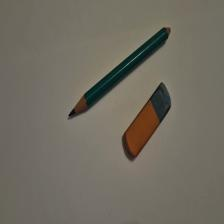eraser: (124, 83, 172, 159)
pencil: (69, 27, 172, 118)
